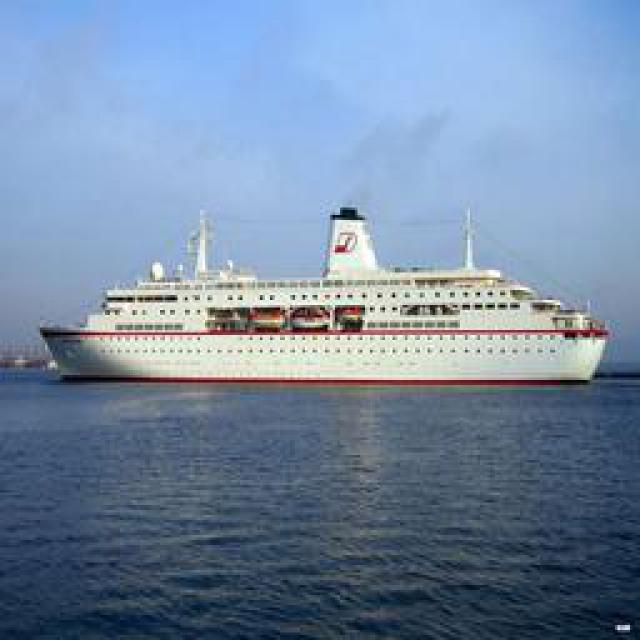Ship: (44, 201, 617, 389)
